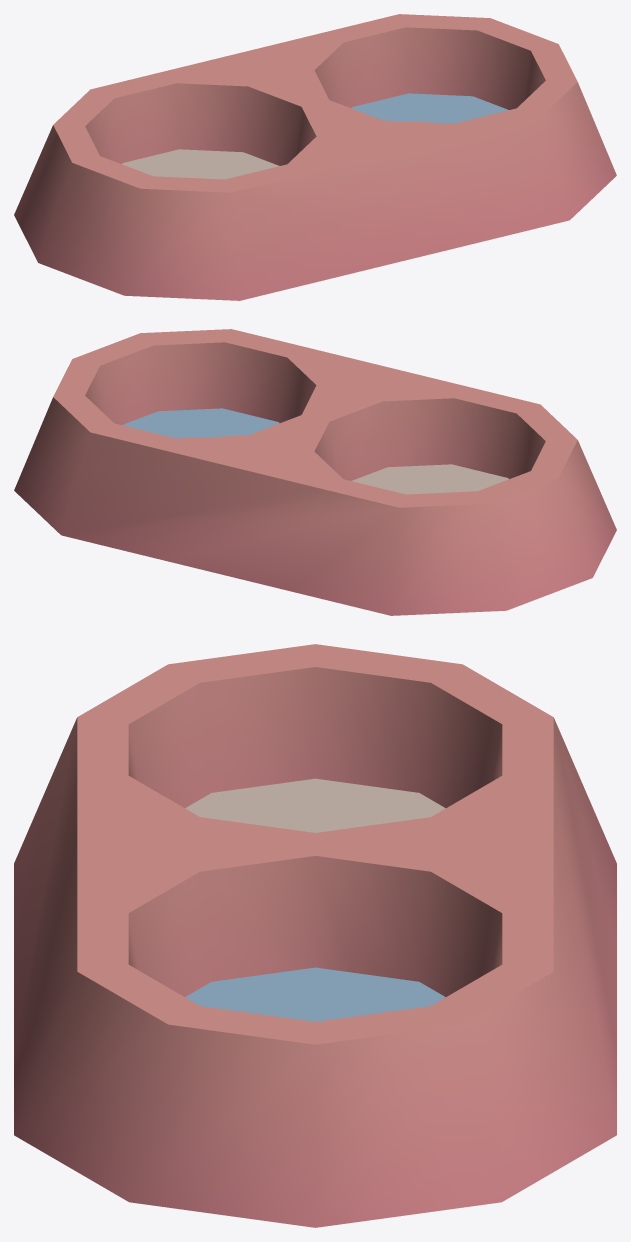
The model's file is pet-food-double.glb.
The picture shows the model from 3 angles, top to bottom: view 1: azimuth 30°, elevation 25°; view 2: azimuth 150°, elevation 25°; view 3: azimuth 270°, elevation 25°; orthographic projection. The views are drawn at different scales.
Parts seen in each view (by area): view 1: pet-food-double; view 2: pet-food-double; view 3: pet-food-double.
Part boxes in pixels (x1,y1,x2,y2): pet-food-double: (14, 14, 616, 300); pet-food-double: (14, 329, 616, 615); pet-food-double: (14, 644, 616, 1227).
Bounding box in the file's own units: 0.5451 × 0.0862 × 0.3041.
